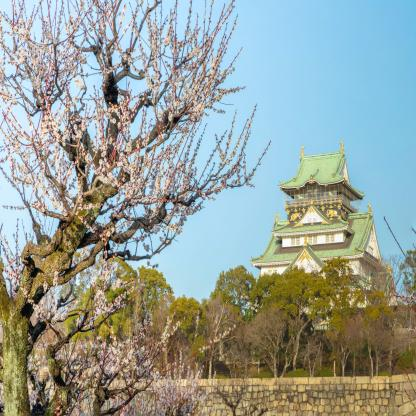Ume: (1, 0, 276, 416)
